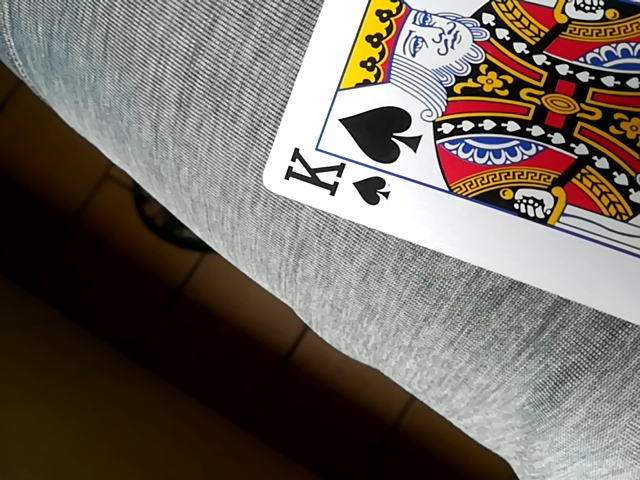ht k: (263, 1, 636, 355)
